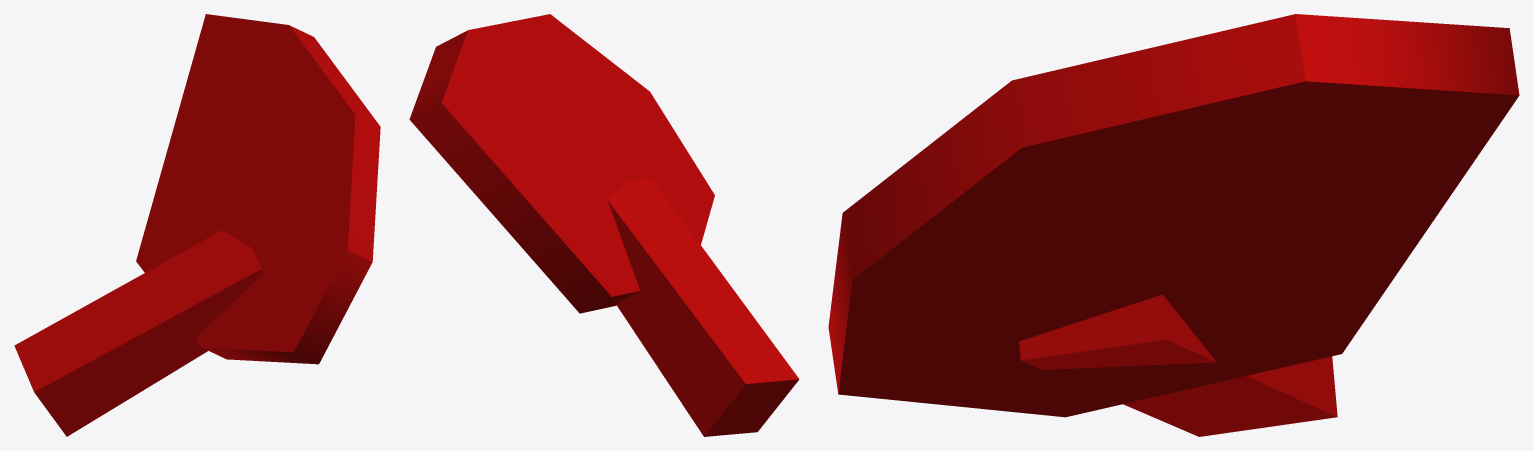
Rendered from SM_Prop_Whale_Skeleton_01_Fin_01_Collision.gltf.
The picture shows the model from 3 angles, left to right: view 1: azimuth 30°, elevation 25°; view 2: azimuth 150°, elevation 25°; view 3: azimuth 270°, elevation 25°; orthographic projection. The views are drawn at different scales.
Parts seen in each view (by area): view 1: SM_Prop_Whale_Skeleton_01_Fin_01_Collision; view 2: SM_Prop_Whale_Skeleton_01_Fin_01_Collision; view 3: SM_Prop_Whale_Skeleton_01_Fin_01_Collision.
Boxes of the visible parts, box(x1,y1,x2,y2) form: SM_Prop_Whale_Skeleton_01_Fin_01_Collision: box(14, 14, 380, 436); SM_Prop_Whale_Skeleton_01_Fin_01_Collision: box(409, 14, 799, 436); SM_Prop_Whale_Skeleton_01_Fin_01_Collision: box(828, 14, 1519, 436).
Bounding box in the file's own units: 2.53 × 2.6 × 2.47.
